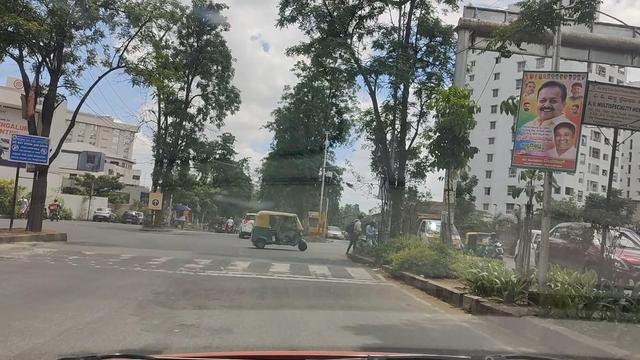LMV: (236, 210, 288, 245)
SpeedBump: (43, 251, 374, 277)
